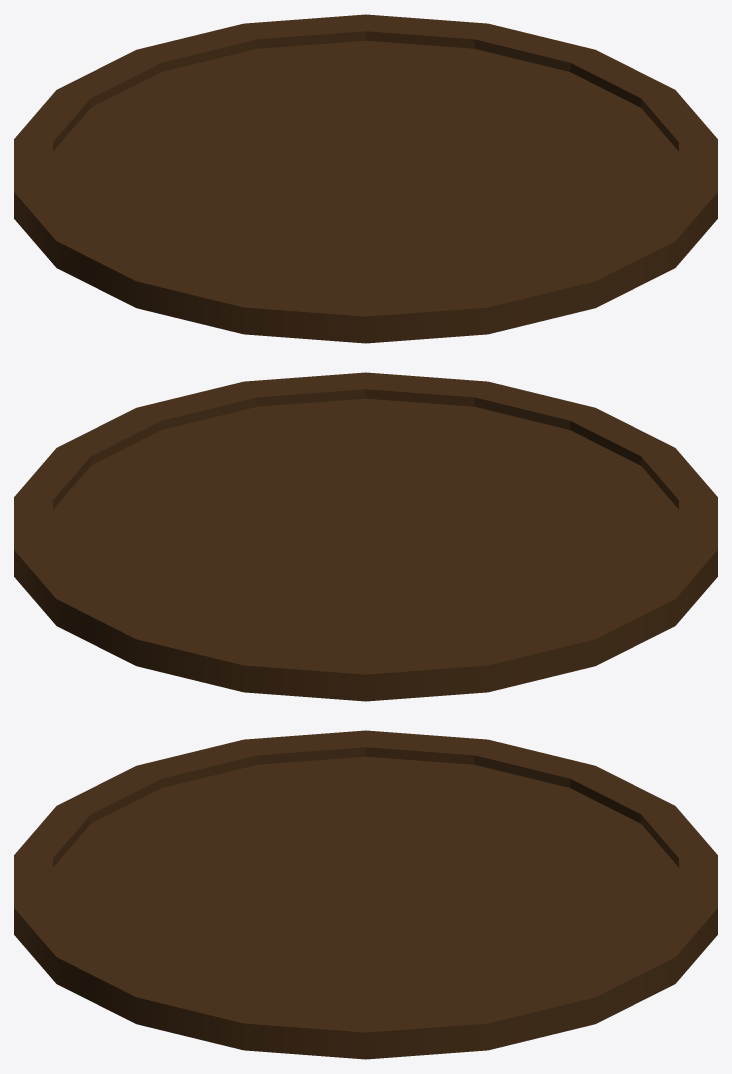
The model's file is plateau_low.fbx.
3 views of the same model, one above another, from view 1: azimuth 30°, elevation 25°; view 2: azimuth 150°, elevation 25°; view 3: azimuth 270°, elevation 25° (orthographic).
Parts seen in each view (by area): view 1: Cylinder001; view 2: Cylinder001; view 3: Cylinder001.
Part boxes in pixels (x1,y1,x2,y2): Cylinder001: [14, 14, 717, 343]; Cylinder001: [14, 372, 717, 701]; Cylinder001: [14, 730, 717, 1059].
Size of the model in its own units: 17.8 by 0.7396 by 17.52.
